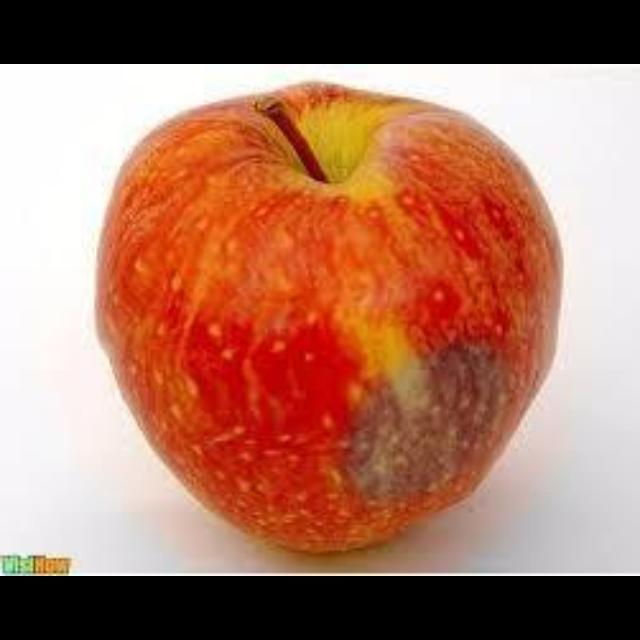apple: (94, 82, 561, 548)
bruise: (342, 341, 515, 499)
